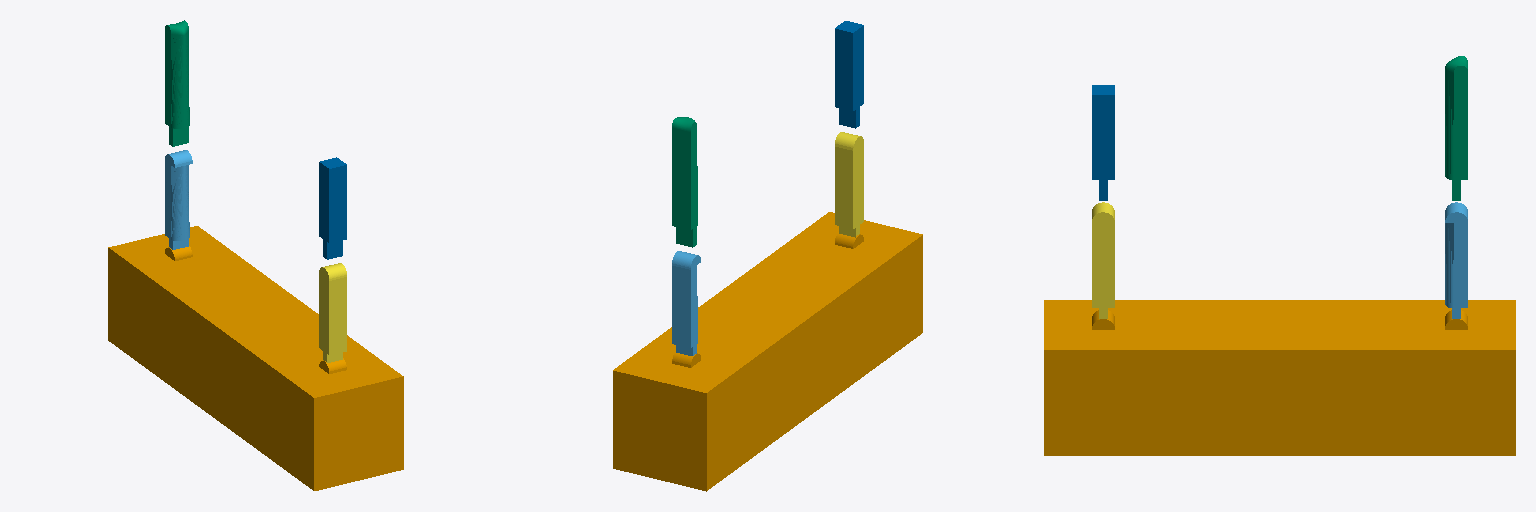
The robot description file, URDF, robot "test_hand":
<?xml version="1.0" ?>
<robot name="test_hand">

    <link name="palm">
        <visual>
            <origin rpy="0 0 0" xyz="0 0 0"/>
            <geometry>
                <mesh filename="obj_files/palm.obj" scale="1 1 1"/>
            </geometry>
        </visual>
        <collision>
            <geometry>
                <mesh filename="obj_files/palm_collision.obj" scale="1 1 1"/>
            </geometry>
        </collision>
    </link>

    <link name="finger0_segment0">
        <visual>
            <origin rpy="0 0 0" xyz="0 0 0"/>
            <geometry>
                <mesh filename="obj_files/finger0_segment0.obj" scale="1 1 1"/>
            </geometry>
        </visual>
        <collision>
            <geometry>
                <mesh filename="obj_files/finger0_segment0_collision.obj" scale="1 1 1"/>
            </geometry>
        </collision>
    </link>

    <joint name="finger0_segment0_joint" type="revolute">
        <parent link="palm"/>
        <child link="finger0_segment0"/>
        <origin rpy="0 0 3.141592653589793" xyz="0.0 0.75 0"/>
        <axis xyz="1 0 0"/>
        <limit effort="1000.0" lower="-3.14" upper="3.14" velocity="0.5"/>
    </joint>

    <link name="finger0_segment1">
        <visual>
            <origin rpy="0 0 0" xyz="0 0 0"/>
            <geometry>
                <mesh filename="obj_files/finger0_segment1.obj" scale="1 1 1"/>
            </geometry>
        </visual>
        <collision>
            <geometry>
                <mesh filename="obj_files/finger0_segment1_collision.obj" scale="1 1 1"/>
            </geometry>
        </collision>
    </link>

    <joint name="finger0_segment1_joint" type="revolute">
        <parent link="finger0_segment0"/>
        <child link="finger0_segment1"/>
        <origin rpy="0 0 0" xyz="0 0 0.6"/>
        <axis xyz="1 0 0"/>
        <limit effort="1000.0" lower="-3.14" upper="3.14" velocity="0.5"/>
    </joint>

    <link name="finger1_segment0">
        <visual>
            <origin rpy="0 0 0" xyz="0 0 0"/>
            <geometry>
                <mesh filename="obj_files/finger1_segment0.obj" scale="1 1 1"/>
            </geometry>
        </visual>
        <collision>
            <geometry>
                <mesh filename="obj_files/finger1_segment0_collision.obj" scale="1 1 1"/>
            </geometry>
        </collision>
    </link>

    <joint name="finger1_segment0_joint" type="revolute">
        <parent link="palm"/>
        <child link="finger1_segment0"/>
        <origin rpy="0 0 0.0" xyz="9.184850993605148e-17 -0.75 0"/>
        <axis xyz="1 0 0"/>
        <limit effort="1000.0" lower="-3.14" upper="3.14" velocity="0.5"/>
    </joint>

    <link name="finger1_segment1">
        <visual>
            <origin rpy="0 0 0" xyz="0 0 0"/>
            <geometry>
                <mesh filename="obj_files/finger1_segment1.obj" scale="1 1 1"/>
            </geometry>
        </visual>
        <collision>
            <geometry>
                <mesh filename="obj_files/finger1_segment1_collision.obj" scale="1 1 1"/>
            </geometry>
        </collision>
    </link>

    <joint name="finger1_segment1_joint" type="revolute">
        <parent link="finger1_segment0"/>
        <child link="finger1_segment1"/>
        <origin rpy="0 0 0" xyz="0 0 0.6"/>
        <axis xyz="1 0 0"/>
        <limit effort="1000.0" lower="-3.14" upper="3.14" velocity="0.5"/>
    </joint>

</robot>

--- Facts derived from the render (not from the file) ---
Views: 3 orthographic renders of the robot side by side, from view 1: azimuth 30°, elevation 25°; view 2: azimuth 150°, elevation 25°; view 3: azimuth 270°, elevation 25°.
Robot: test_hand — 5 links, 4 joints (4 revolute); root link palm; default pose: all joints at 0.
Links seen in each view (by area): view 1: palm, finger0_segment1, finger1_segment0, finger1_segment1, finger0_segment0; view 2: palm, finger0_segment1, finger1_segment0, finger1_segment1, finger0_segment0; view 3: palm, finger0_segment1, finger1_segment0, finger0_segment0, finger1_segment1.
Boxes of the visible links, x1=… form: palm: x1=108, y1=226, x2=403, y2=490; finger0_segment1: x1=165, y1=20, x2=189, y2=146; finger1_segment0: x1=319, y1=263, x2=346, y2=362; finger1_segment1: x1=319, y1=157, x2=346, y2=259; finger0_segment0: x1=165, y1=150, x2=192, y2=249; palm: x1=613, y1=212, x2=922, y2=491; finger0_segment1: x1=672, y1=117, x2=697, y2=247; finger1_segment0: x1=835, y1=132, x2=863, y2=237; finger1_segment1: x1=835, y1=21, x2=863, y2=128; finger0_segment0: x1=672, y1=251, x2=700, y2=355; palm: x1=1044, y1=300, x2=1515, y2=455; finger0_segment1: x1=1445, y1=56, x2=1467, y2=200; finger1_segment0: x1=1092, y1=202, x2=1114, y2=318; finger0_segment0: x1=1445, y1=202, x2=1467, y2=318; finger1_segment1: x1=1092, y1=85, x2=1114, y2=200.
Size in the robot's own frame: 0.5 by 2 by 1.74 metres.
5 mesh visuals loaded from 5 distinct referenced files (5 OBJ).